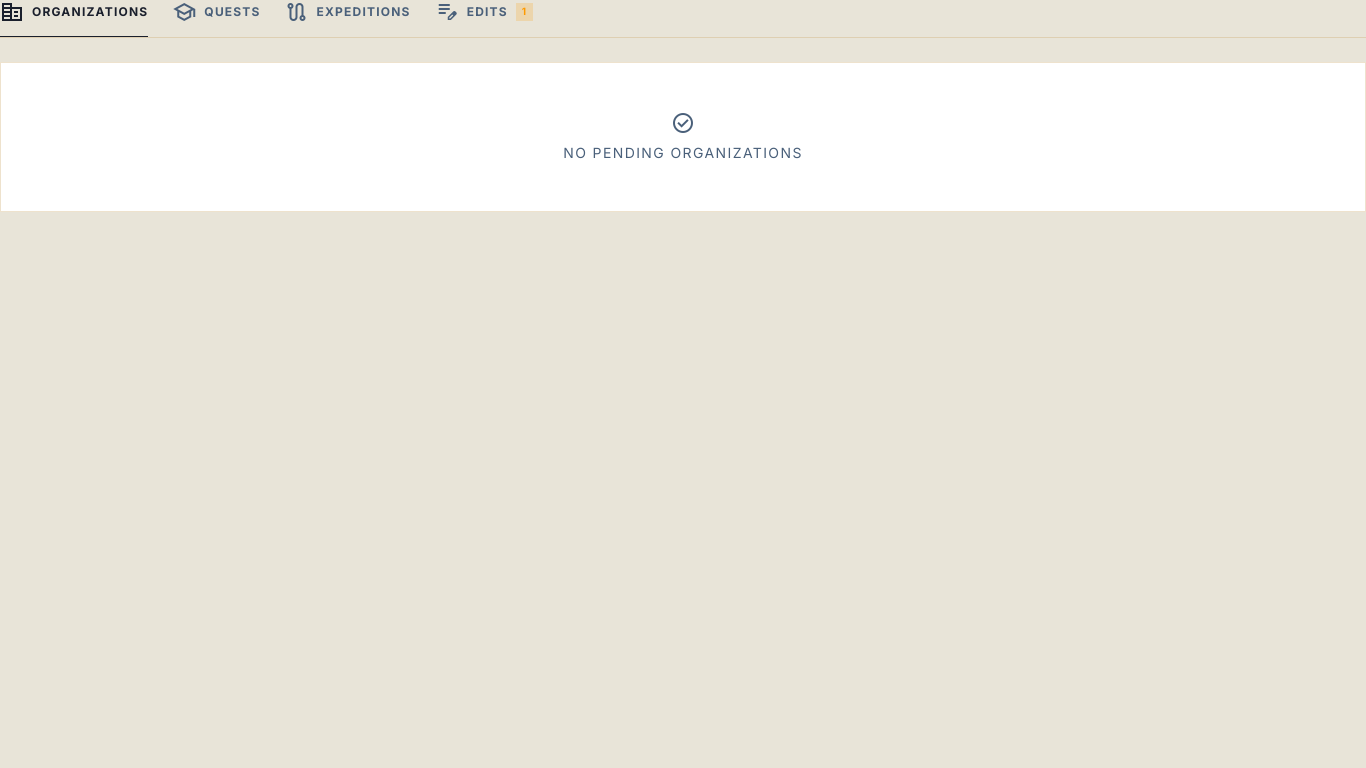
Scenario: Edits tab — draft_data quests › opens the preview modal when Preview button is clicked
Click the button "Edits 1" at x=484, y=19, box top-left (435, 0), bottom-right (533, 38)
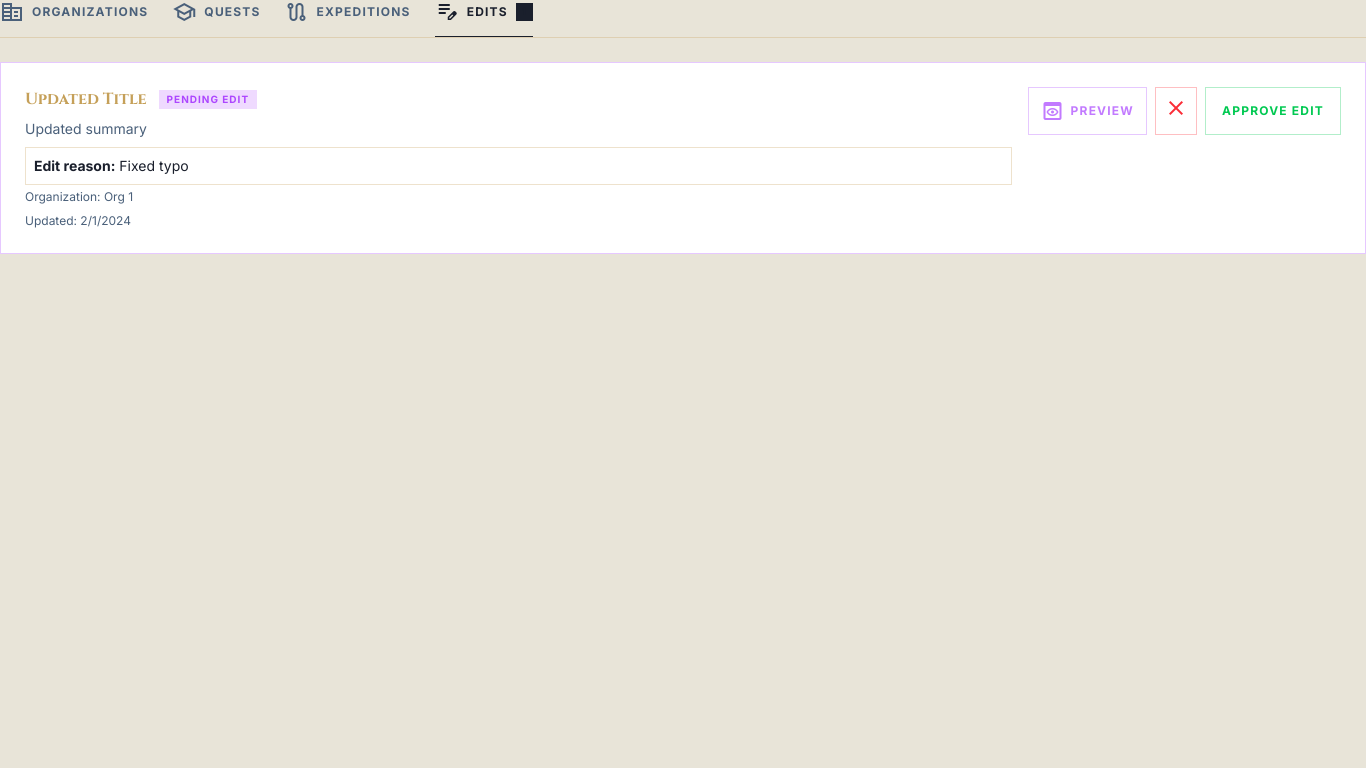
Click the button "Preview" at x=1087, y=111, box top-left (1028, 87), bottom-right (1147, 135)
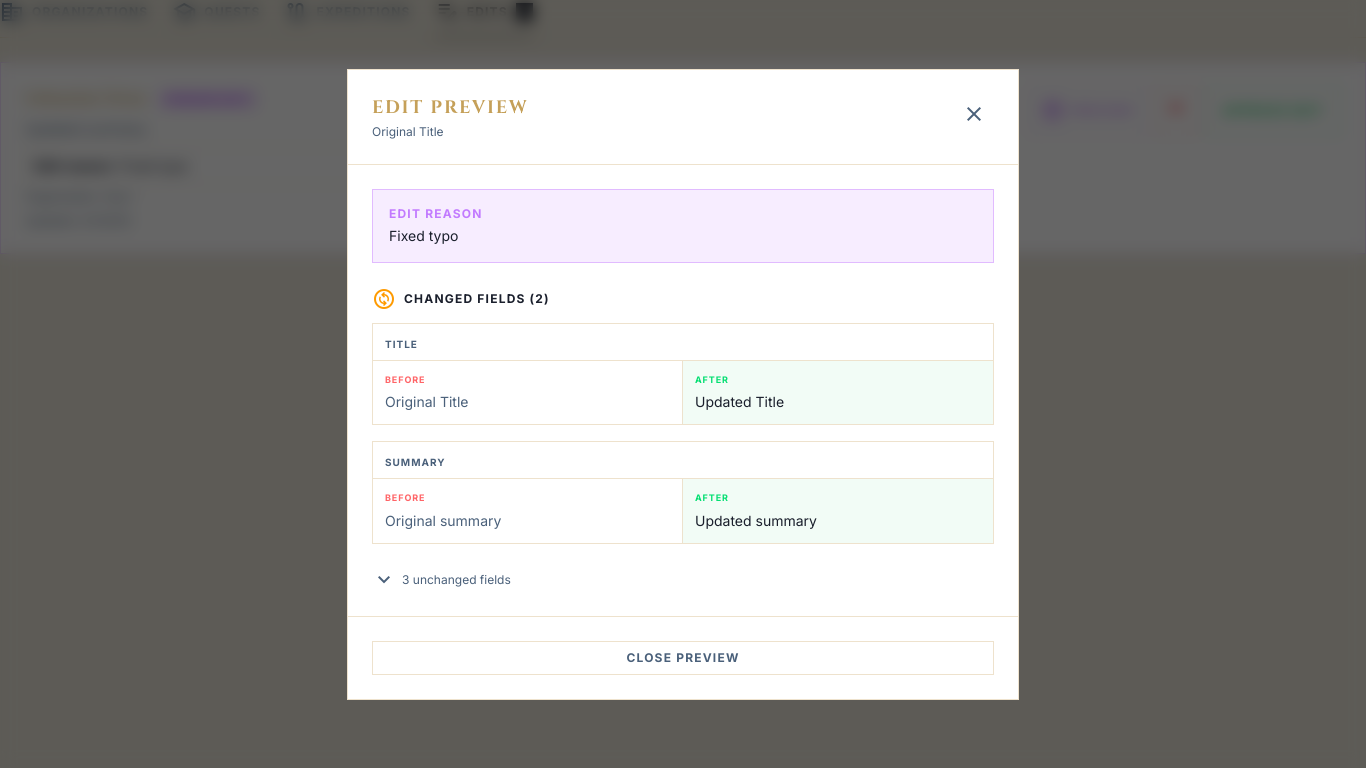
Now the heading "Edit Preview" is shown, box top-left (372, 94), bottom-right (528, 122)
Now the 1st text "Before" is shown, box top-left (385, 374), bottom-right (425, 384)
Now the 1st text "After" is shown, box top-left (695, 374), bottom-right (729, 384)
